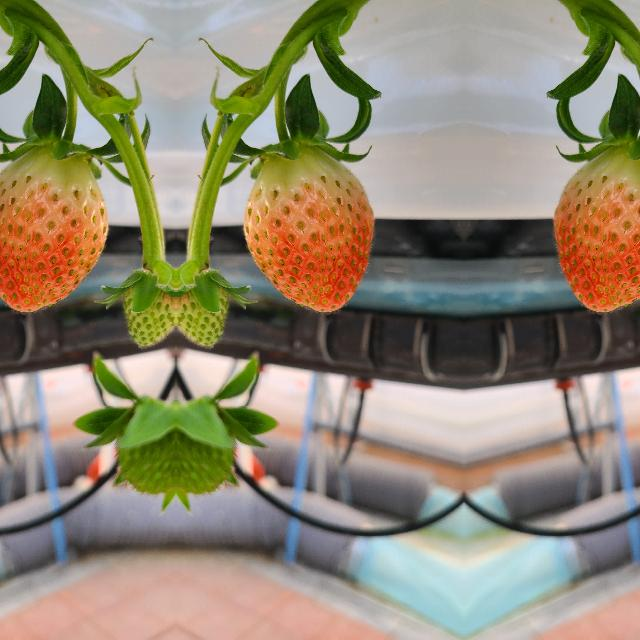Health_25: (122, 262, 176, 356), (175, 262, 228, 356)
Health_75: (240, 146, 376, 314), (0, 145, 110, 314), (549, 145, 640, 314)
